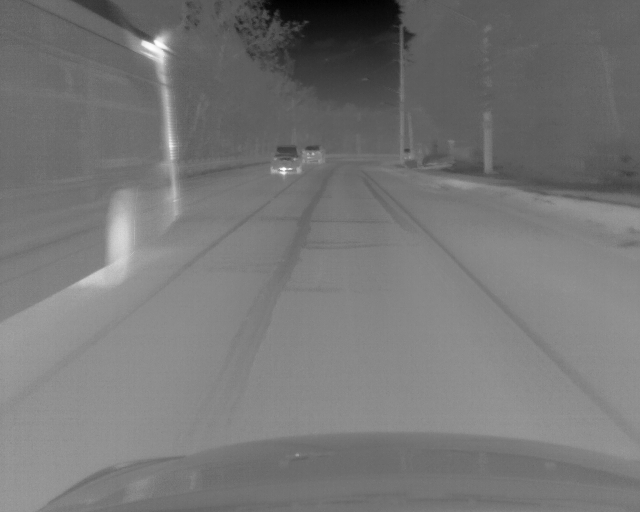car: (1, 1, 185, 324), (270, 145, 303, 176), (301, 144, 325, 166), (401, 145, 411, 160)
